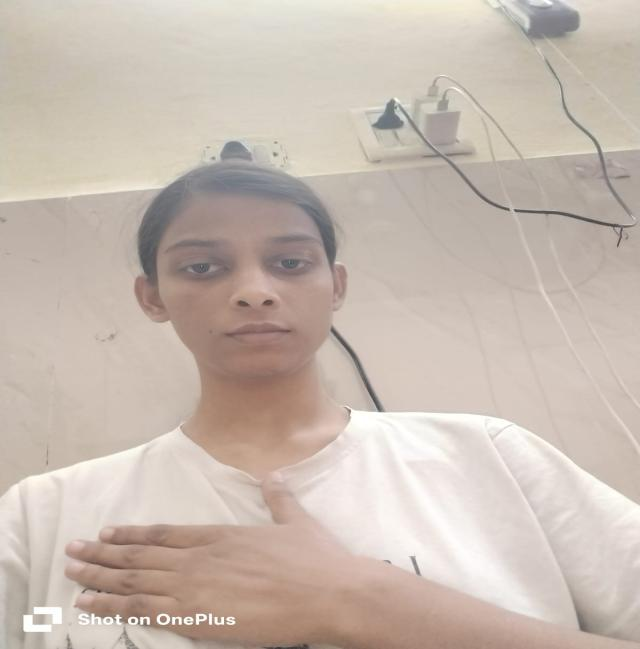Please: (53, 461, 375, 649)
